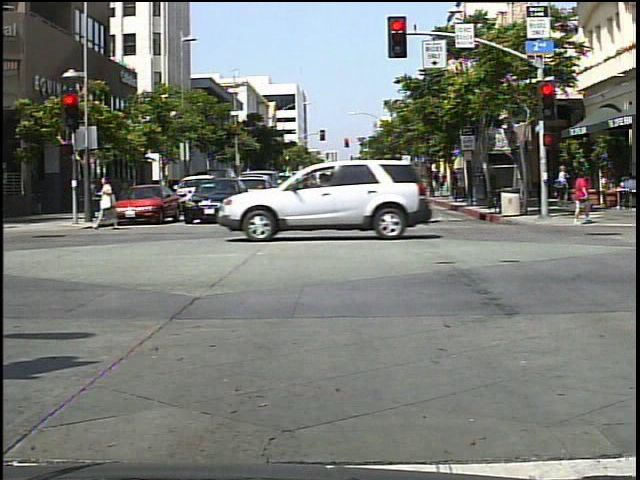person: (565, 170, 598, 231), (93, 172, 124, 236), (552, 160, 571, 210)
